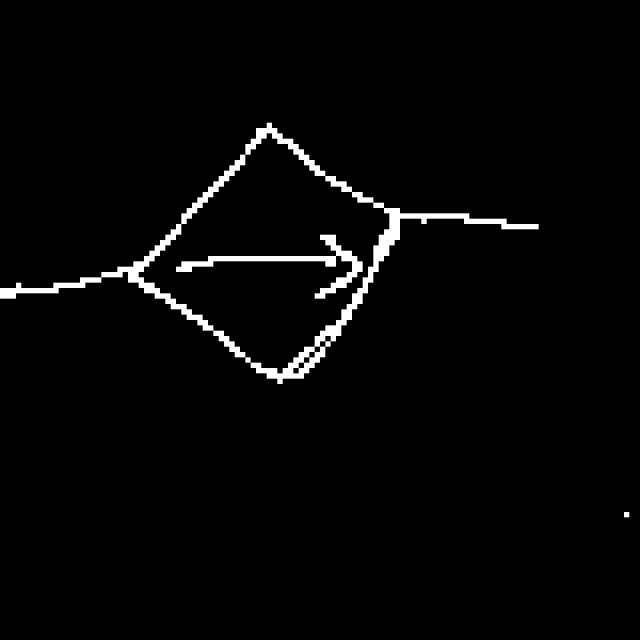dependant_current: (116, 120, 414, 392)
